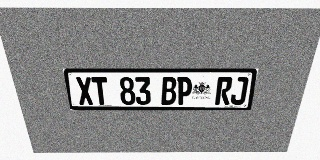3: (135, 77, 151, 105)
8: (119, 77, 136, 105)
B: (161, 77, 177, 105)
J: (230, 77, 249, 105)
P: (176, 77, 193, 105)
R: (215, 77, 233, 105)
T: (91, 77, 109, 105)
X: (75, 77, 94, 105)
